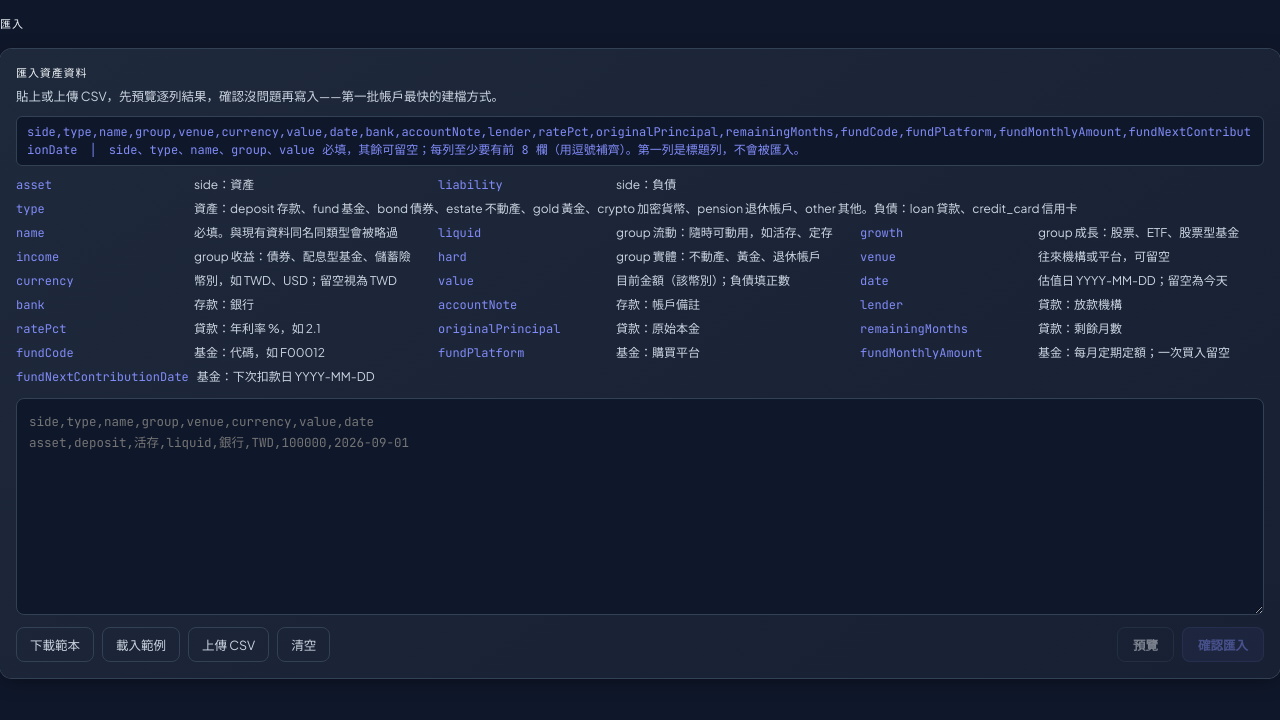
Test: the row-by-row result › says so when no rows came back
The width and height of the screenshot is (1280, 720).
Replace the text in the text box with "side,type,name,group,venue,currency,value,date,bank,accountNote,lender,ratePct,originalPrincipal,remainingMonths,fundCode,fundPlatform,fundMonthlyAmount,fundNextContributionDate" at (640, 506), box [16,398,1264,615]
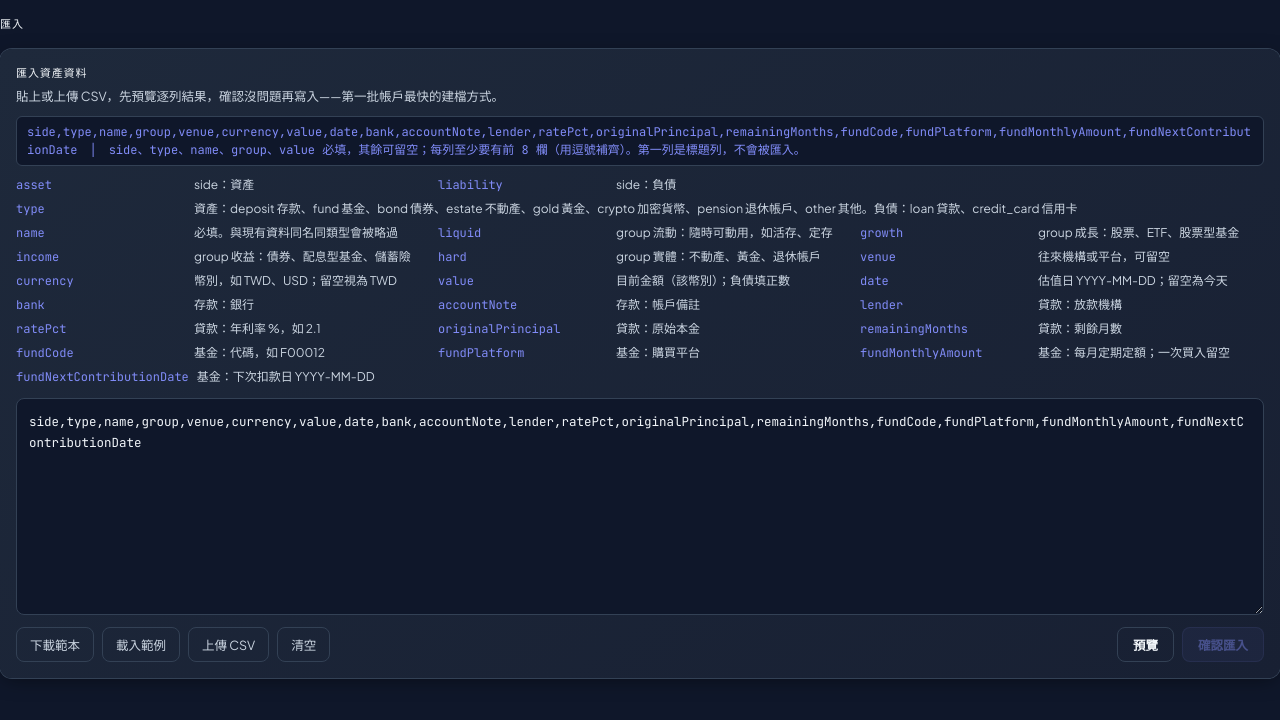
Click the button "預覽".
click(1146, 644)  # box [1117,627,1174,662]
(page scrolled)
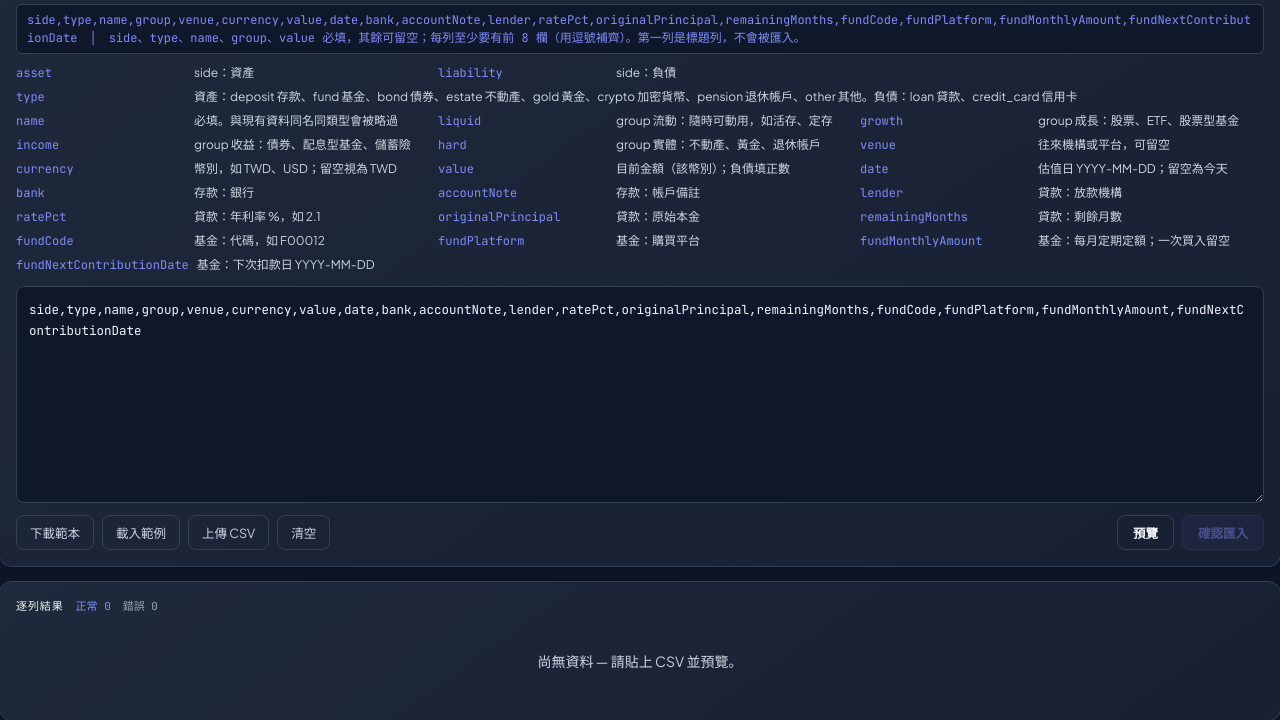
Expected: the text "尚無資料 — 請貼上 CSV 並預覽。" is shown, [537,652,743,670]
